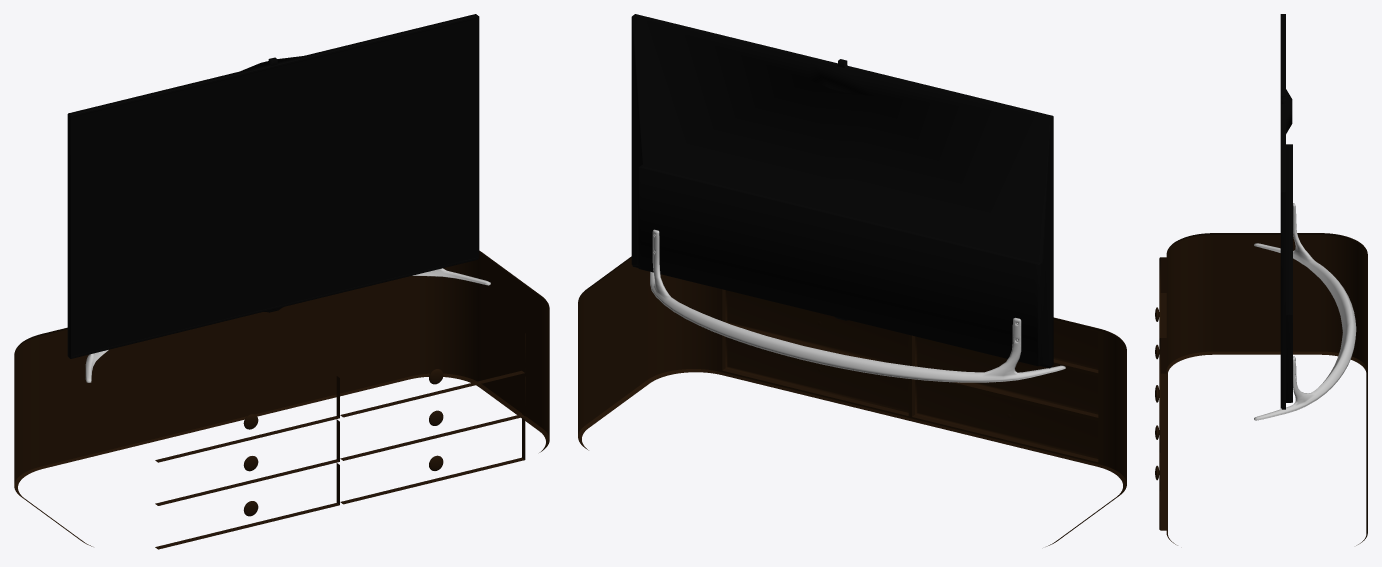
The picture shows the model from 3 angles, left to right: view 1: azimuth 30°, elevation 25°; view 2: azimuth 150°, elevation 25°; view 3: azimuth 270°, elevation 25°; orthographic projection. The views are drawn at different scales.
Visible parts, largest first — view 1: Plane, Plane.003, Plane.002; view 2: Plane, Plane.003, Plane.002; view 3: Plane.003, Plane, Plane.002.
Part boxes in pixels (<box>): Plane: <box>67,14,479,358</box>; Plane.003: <box>14,250,549,549</box>; Plane.002: <box>85,268,490,382</box>; Plane: <box>631,14,1053,368</box>; Plane.003: <box>578,256,1126,546</box>; Plane.002: <box>650,229,1065,382</box>; Plane.003: <box>1155,233,1367,545</box>; Plane: <box>1280,14,1292,409</box>; Plane.002: <box>1254,203,1356,420</box>.
Bounding box in the file's own units: 1.62 × 1.34 × 0.7257.
